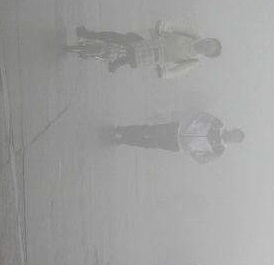person: (76, 20, 222, 81), (115, 112, 245, 165)
